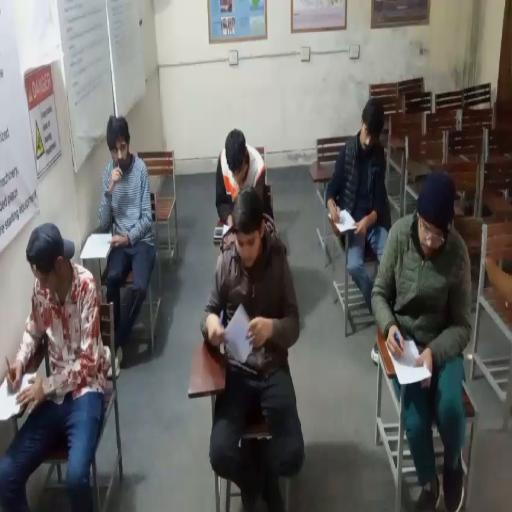paper: (378, 331, 432, 387), (224, 304, 254, 362), (0, 372, 36, 420), (80, 232, 113, 260), (332, 208, 357, 232)
